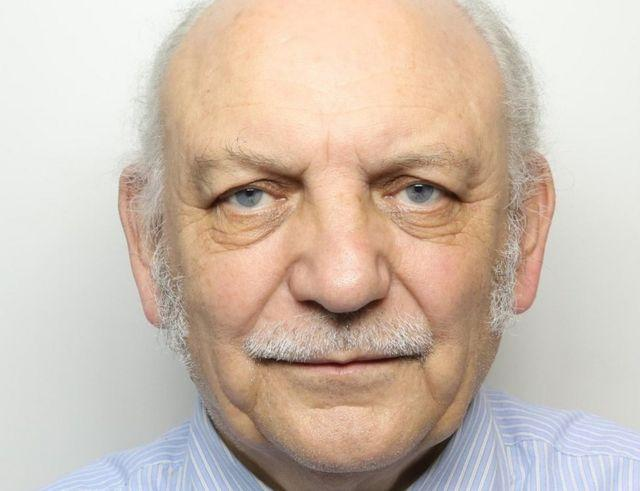crows_feet: (175, 190, 207, 226), (458, 182, 486, 220)
frown_line: (318, 128, 334, 168)
gummy_smile: (387, 257, 429, 315), (248, 268, 286, 324)
masseter: (207, 352, 246, 420), (452, 336, 472, 396)
sad_smile: (416, 360, 442, 408)
